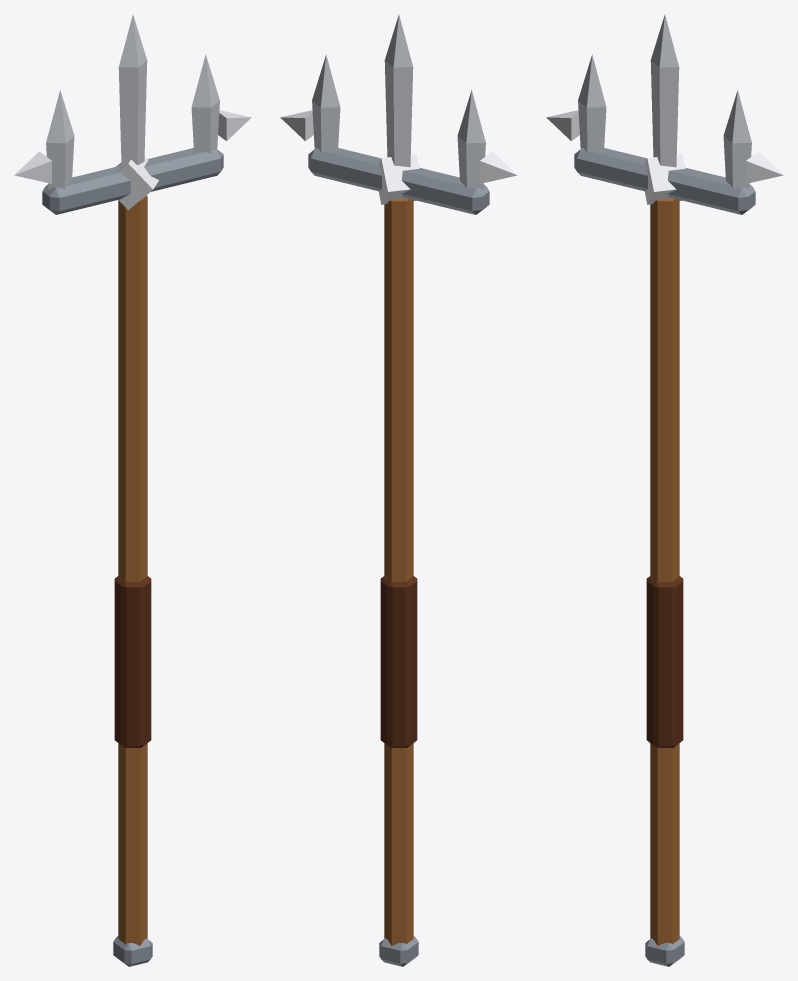
Rendered from IronTrident.fbx.
3 renders of one model, left to right at view 1: azimuth 30°, elevation 25°; view 2: azimuth 150°, elevation 25°; view 3: azimuth 330°, elevation 25°, orthographic.
Parts seen in each view (by area): view 1: IronTrident; view 2: IronTrident; view 3: IronTrident.
Boxes of the visible parts, x1,y1,x2,y2 form: IronTrident: (14, 15, 251, 966); IronTrident: (280, 15, 517, 966); IronTrident: (546, 15, 783, 966).
Bounding box in the file's own units: 1.5 × 5.72 × 0.3414.
Materials: 1 (1 with a texture image).
